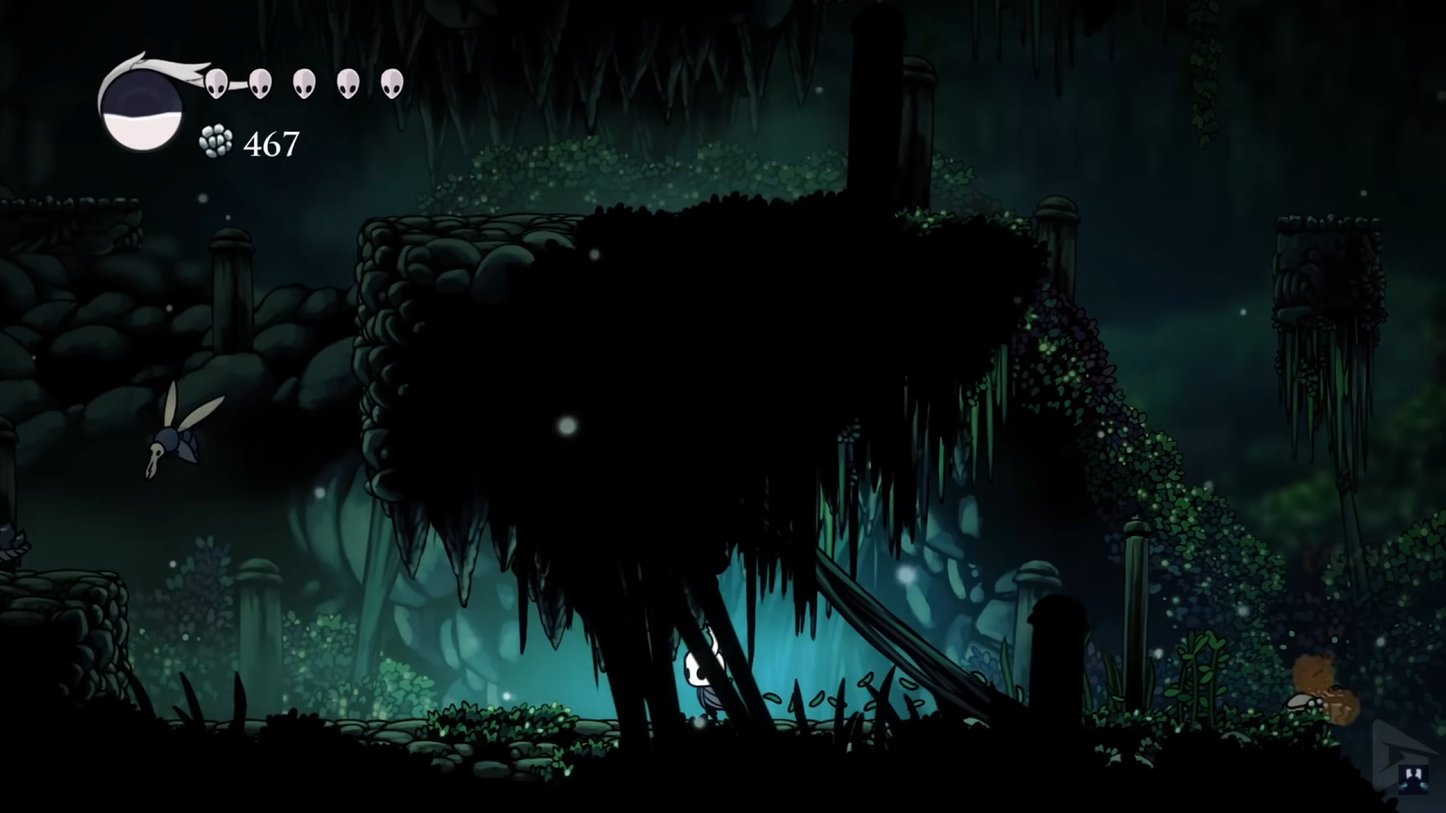HK: (682, 631, 732, 720)
